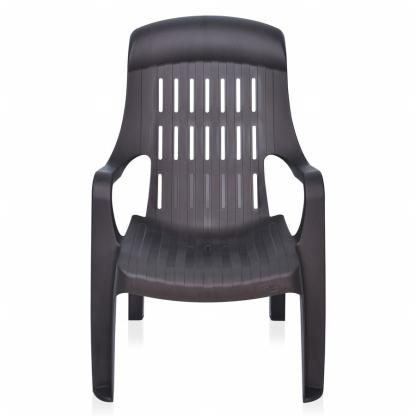chair: (73, 15, 349, 415)
